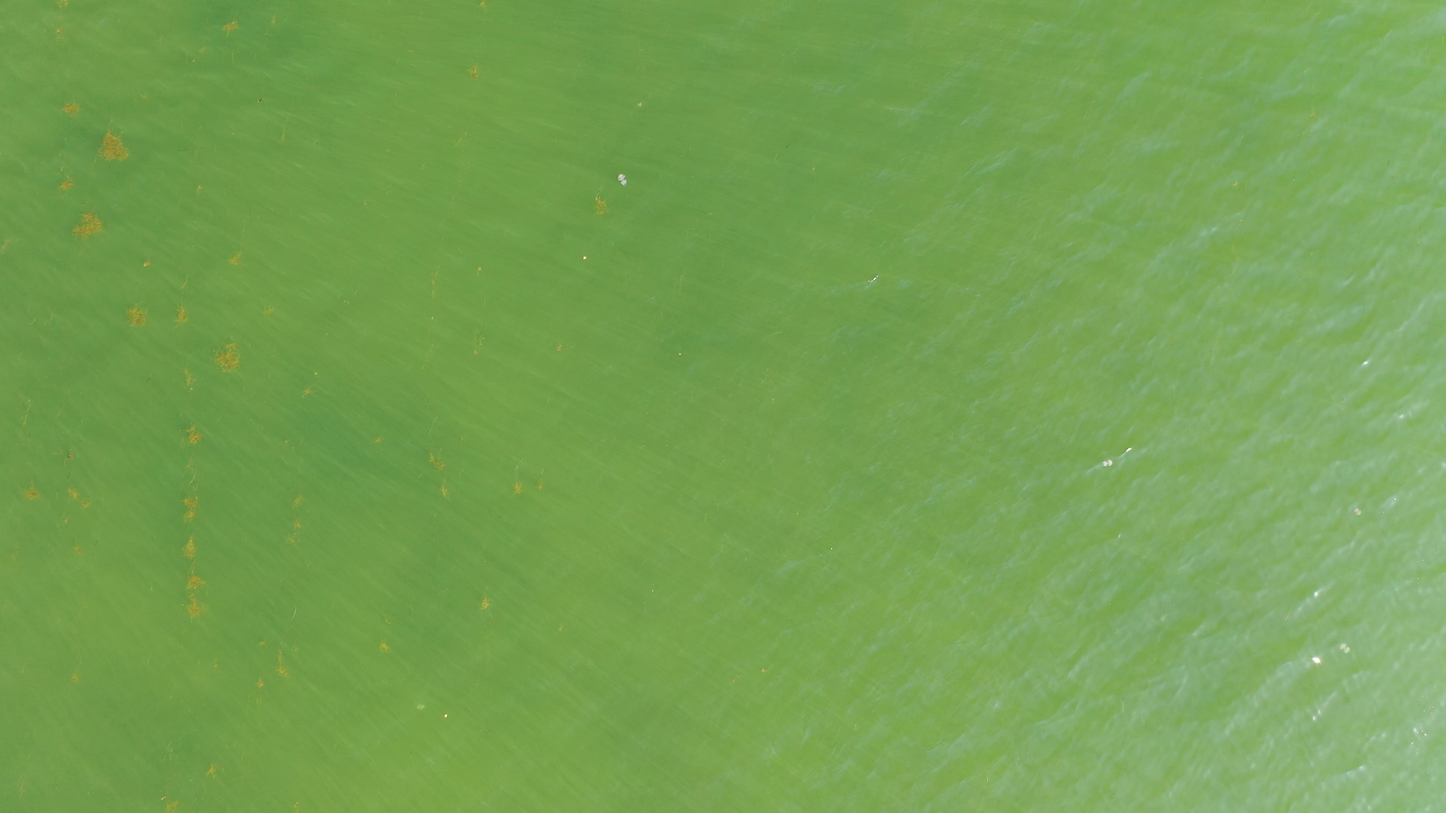meduse: (1340, 643, 1351, 654), (615, 174, 627, 184), (1103, 459, 1112, 467), (1354, 508, 1362, 516), (416, 703, 424, 710)
